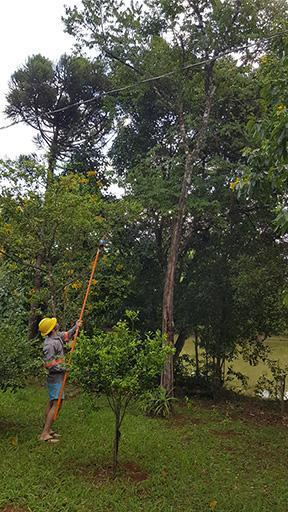helmet: (37, 316, 60, 338)
